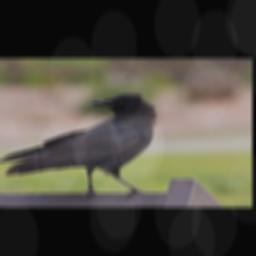Crow: (0, 93, 159, 200)
